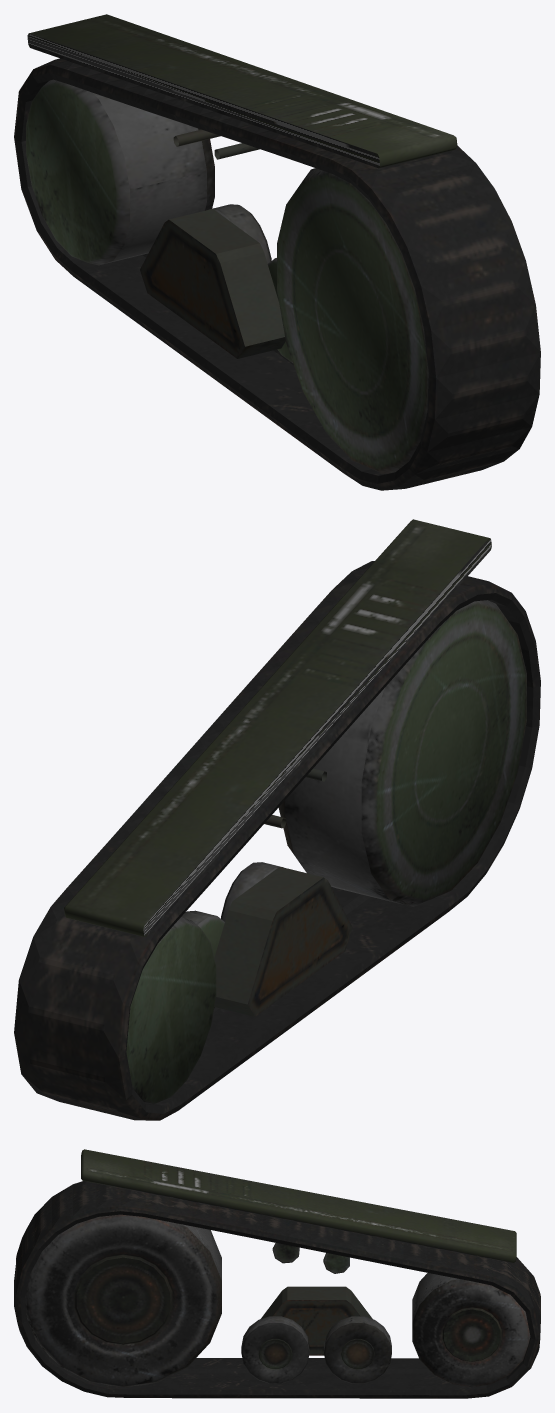
The model's file is senila_stanga.obj.
3 renders of one model, top to bottom at view 1: azimuth 30°, elevation 25°; view 2: azimuth 150°, elevation 25°; view 3: azimuth 270°, elevation 25°, orthographic. The views are drawn at different scales.
Visible parts, largest first — view 1: Tank.001_Tank.001; view 2: Tank.001_Tank.001; view 3: Tank.001_Tank.001.
Part boxes in pixels (x1,y1,x2,y2): Tank.001_Tank.001: [14, 14, 540, 490]; Tank.001_Tank.001: [14, 519, 540, 1120]; Tank.001_Tank.001: [14, 1149, 540, 1398].
Bounding box in the file's own units: 43.18 × 128 × 280.
Materials: 1 (1 with a texture image).
